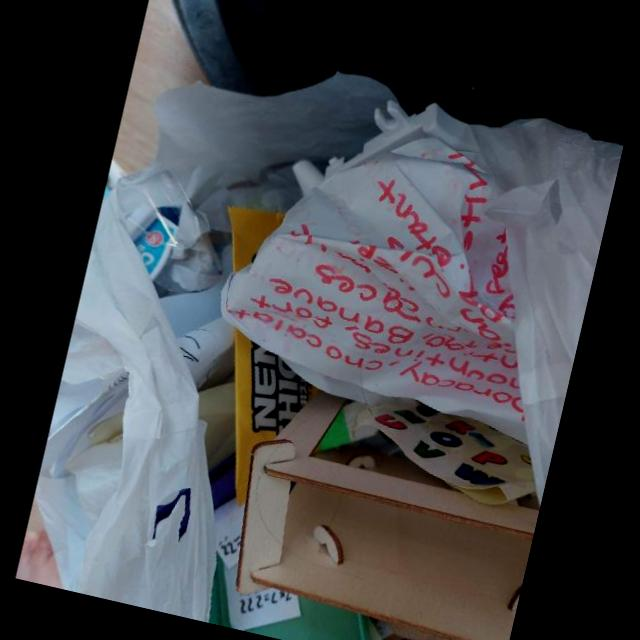giay: (220, 136, 526, 443), (349, 397, 536, 505)
tui_ni_long: (35, 197, 217, 622)
